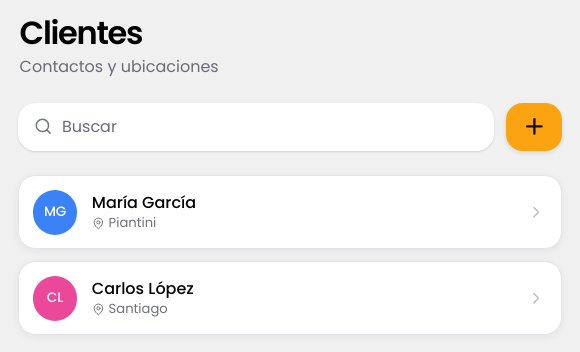
Test: ClientsPage › filters clients without losing their data
The width and height of the screenshot is (580, 352).
Type "María" into the search field named "Buscar clientes" at (256, 126), box [18,102,494,150]
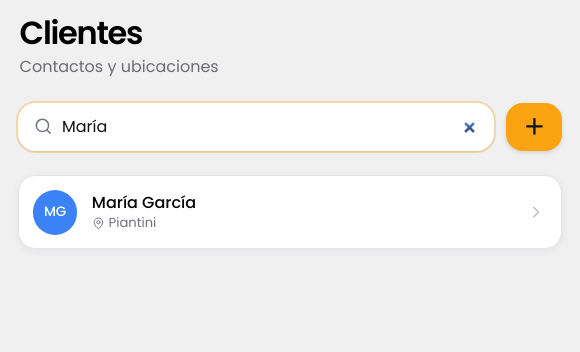
Check: the text "María García" is shown, box [92,190,196,214]
Check: the button "Carlos López" is gone
Check: the number of list items is 1, box [18,174,562,249]
